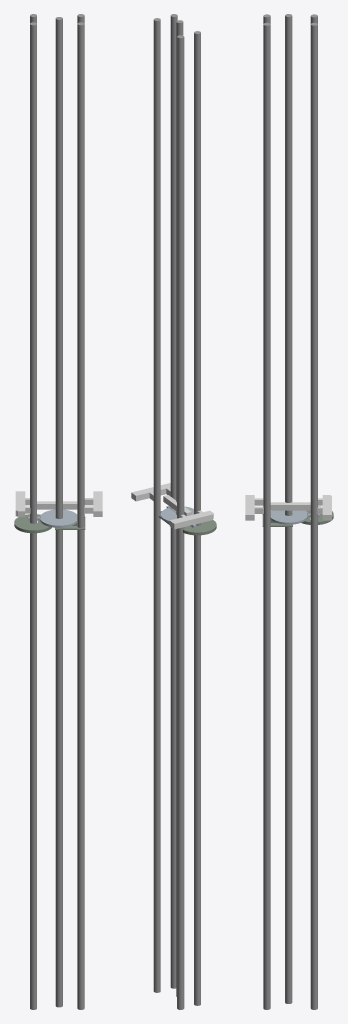
Rendered from board.glb.
The picture shows the model from 3 angles, left to right: view 1: azimuth 90°, elevation 25°; view 2: azimuth 210°, elevation 25°; view 3: azimuth 270°, elevation 25°; orthographic projection.
Visible parts, largest first — view 1: Unified_Net_3_Contour_0 (×2), Unified_Net_1_Contour_0, Unified_Net_4_Contour_0 (×2), Substrate_Layer_2_Z0, Substrate_Layer_0_Z0, Unified_Net_2_Contour_0; view 2: Unified_Net_3_Contour_1, Unified_Net_4_Contour_1, Unified_Net_4_Contour_0 (×2), Unified_Net_3_Contour_0 (×2), Unified_Net_1_Contour_0, Substrate_Layer_0_Z0, Substrate_Layer_2_Z0; view 3: Unified_Net_4_Contour_1, Unified_Net_3_Contour_1, Unified_Net_1_Contour_0, Substrate_Layer_2_Z0, Unified_Net_3_Contour_0, Unified_Net_2_Contour_0, Unified_Net_4_Contour_0.
Boxes of the visible parts, x1=… form: Unified_Net_3_Contour_0 (×2): x1=77, y1=22, x2=102, y2=1009; Unified_Net_1_Contour_0: x1=55, y1=17, x2=62, y2=1007; Unified_Net_4_Contour_0 (×2): x1=15, y1=22, x2=36, y2=1009; Substrate_Layer_2_Z0: x1=28, y1=509, x2=77, y2=527; Substrate_Layer_0_Z0: x1=14, y1=514, x2=51, y2=533; Unified_Net_2_Contour_0: x1=37, y1=501, x2=77, y2=509; Unified_Net_3_Contour_1: x1=153, y1=18, x2=160, y2=992; Unified_Net_4_Contour_1: x1=177, y1=35, x2=184, y2=1009; Unified_Net_4_Contour_0 (×2): x1=169, y1=31, x2=213, y2=1005; Unified_Net_3_Contour_0 (×2): x1=131, y1=14, x2=177, y2=988; Unified_Net_1_Contour_0: x1=176, y1=20, x2=183, y2=996; Substrate_Layer_0_Z0: x1=183, y1=520, x2=216, y2=535; Substrate_Layer_2_Z0: x1=160, y1=506, x2=196, y2=527; Unified_Net_4_Contour_1: x1=310, y1=22, x2=317, y2=1009; Unified_Net_3_Contour_1: x1=263, y1=22, x2=270, y2=1009; Unified_Net_1_Contour_0: x1=285, y1=14, x2=292, y2=1003; Substrate_Layer_2_Z0: x1=270, y1=510, x2=319, y2=524; Unified_Net_3_Contour_0: x1=245, y1=495, x2=263, y2=520; Unified_Net_2_Contour_0: x1=270, y1=502, x2=310, y2=510; Unified_Net_4_Contour_0: x1=317, y1=495, x2=331, y2=520.
Size of the model in its own units: 3.6e-06 by 6.9e-05 by 5.6e-06.
